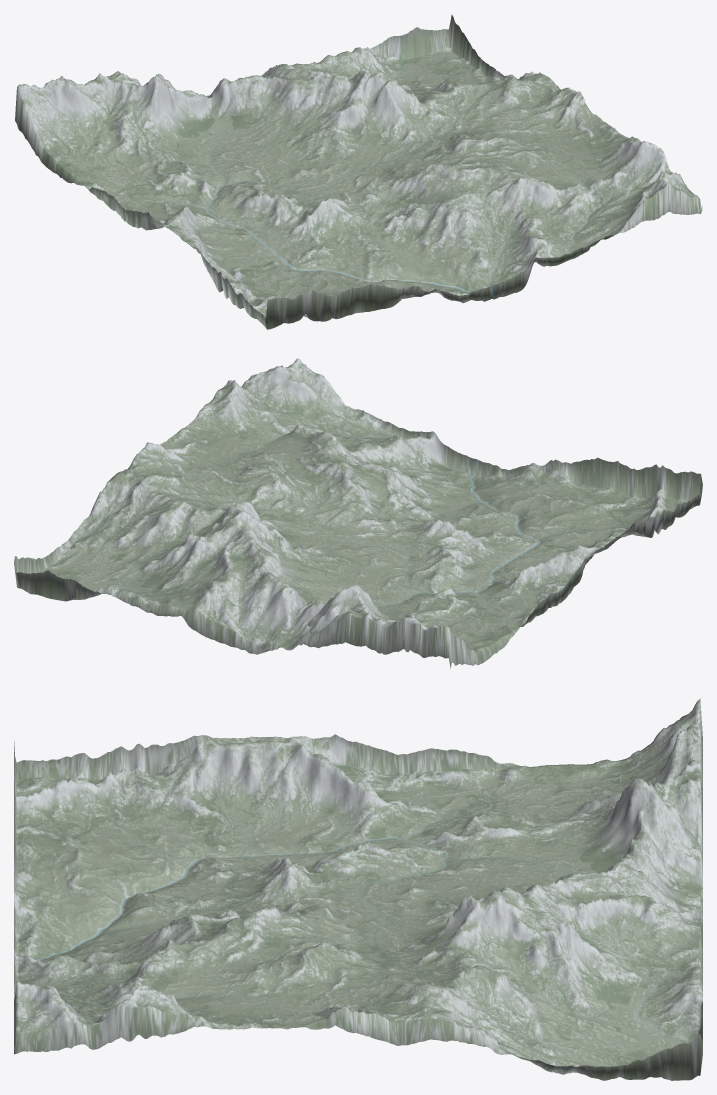
File: SM_Gobi_00.fbx
3 renders of one model, top to bottom at view 1: azimuth 30°, elevation 25°; view 2: azimuth 150°, elevation 25°; view 3: azimuth 270°, elevation 25°, orthographic. The views are drawn at different scales.
Visible parts, largest first — view 1: SM_Gobi_00.003, SM_Gobi_00.002, SM_Gobi_00, SM_Gobi_00.001; view 2: SM_Gobi_00.001, SM_Gobi_00.003, SM_Gobi_00.002, SM_Gobi_00; view 3: SM_Gobi_00, SM_Gobi_00.001, SM_Gobi_00.002, SM_Gobi_00.003.
Boxes of the visible parts, x1,y1,x2,y2 form: SM_Gobi_00.003: (359, 90, 702, 301); SM_Gobi_00.002: (15, 71, 357, 228); SM_Gobi_00: (140, 177, 484, 329); SM_Gobi_00.001: (261, 14, 574, 177); SM_Gobi_00.001: (14, 450, 357, 646); SM_Gobi_00.003: (142, 358, 484, 535); SM_Gobi_00.002: (232, 536, 576, 668); SM_Gobi_00: (358, 457, 702, 585); SM_Gobi_00: (14, 734, 358, 957); SM_Gobi_00.001: (358, 870, 702, 1080); SM_Gobi_00.002: (358, 698, 702, 937); SM_Gobi_00.003: (14, 905, 358, 1054).
Size of the model in its own units: 37982 by 7181 by 37982.
